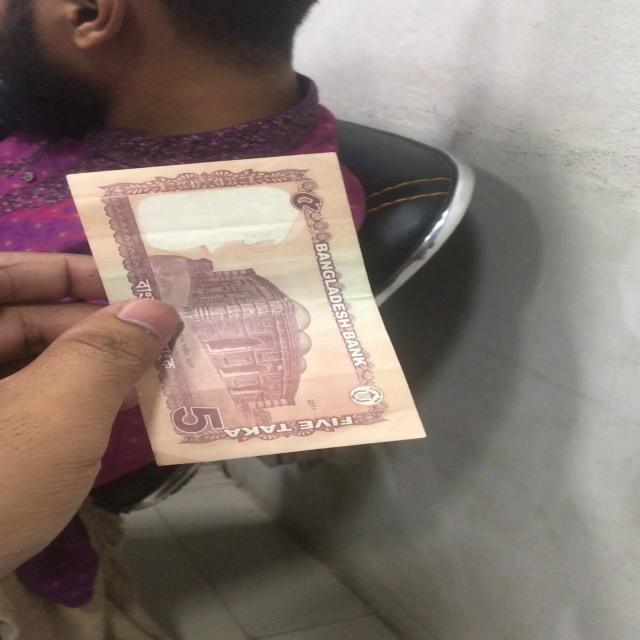Taka: (65, 163, 418, 454)
